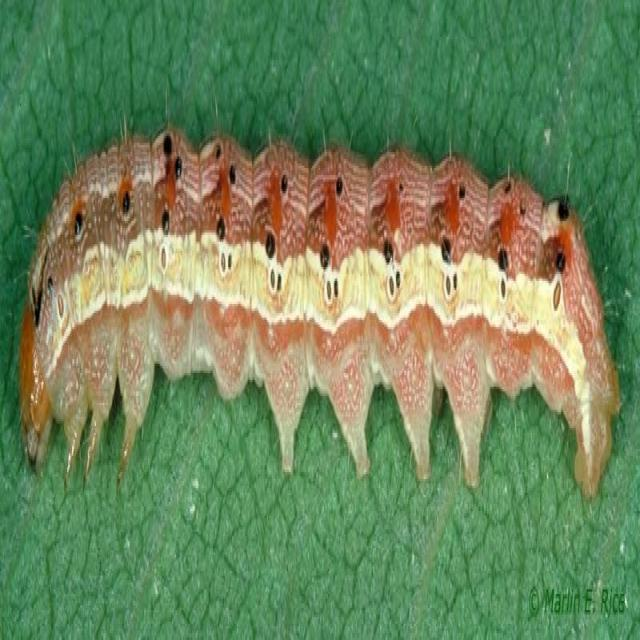Corn-earworm: (18, 104, 620, 518)
